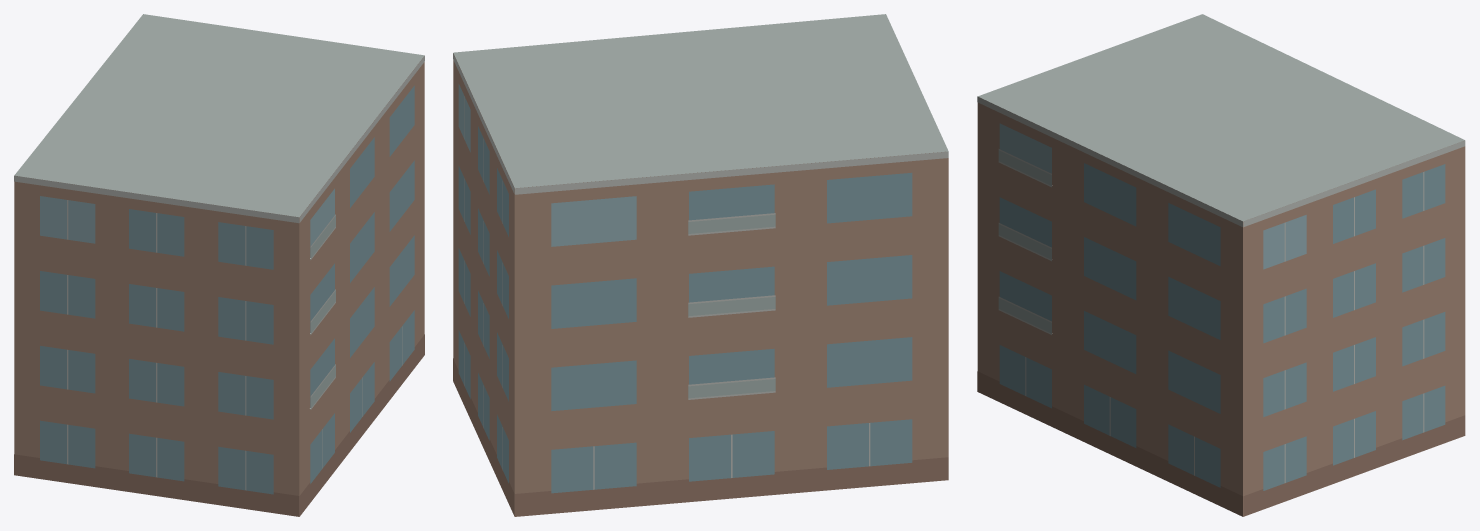
File: survey-upis-32912954.glb
The picture shows the model from 3 angles, left to right: view 1: azimuth 30°, elevation 25°; view 2: azimuth 150°, elevation 25°; view 3: azimuth 270°, elevation 25°; orthographic projection. The views are drawn at different scales.
Visible parts, largest first — view 1: survey-upis-32912954.tmp; view 2: survey-upis-32912954.tmp; view 3: survey-upis-32912954.tmp.
Boxes of the visible parts, x1,y1,x2,y2 form: survey-upis-32912954.tmp: (14, 14, 424, 516); survey-upis-32912954.tmp: (453, 14, 948, 516); survey-upis-32912954.tmp: (977, 14, 1465, 516).
Bounding box in the file's own units: 18.38 × 12.2 × 18.27.
